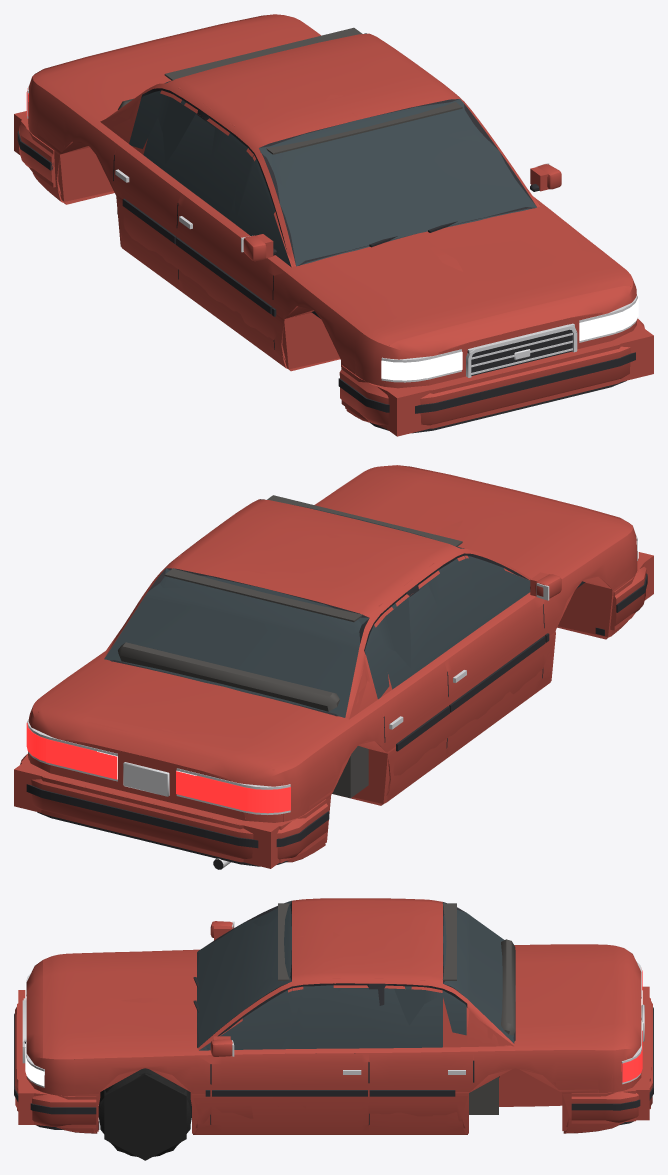
The model's file is sedan.glb.
3 views of the same model, one above another, from view 1: azimuth 30°, elevation 25°; view 2: azimuth 150°, elevation 25°; view 3: azimuth 270°, elevation 25° (orthographic). The views are drawn at different scales.
Visible parts, largest first — view 1: lod0_body, lod1_body, lod0_hood, lod2_body, lod0_bumper_F, lod1_bumper_F, lod2_light_head, lod0_light_head, lod0_bumper_R, lod1_hood; view 2: lod0_body, lod1_body, lod0_hood, lod2_body, lod0_bumper_R, lod2_light_tail, lod1_bumper_R, lod0_light_tail, lod0_bumper_F, lod1_hood; view 3: lod0_body, lod1_body, lod0_hood, lod2_body, lod0_door, lod2_wheel, lod1_door, lod0_bumper_F, lod0_bumper_R, lod0_wheel, lod1_bumper_R, lod1_bumper_F (+2 smaller).
Part boxes in pixels (x1,y1,x2,y2): lod0_body: (27, 14, 637, 422); lod1_body: (30, 24, 611, 422); lod0_hood: (287, 208, 632, 346); lod2_body: (14, 100, 653, 436); lod0_bumper_F: (338, 319, 644, 433); lod1_bumper_F: (341, 319, 643, 429); lod2_light_head: (426, 314, 615, 378); lod0_light_head: (381, 298, 638, 380); lod0_bumper_R: (17, 120, 53, 182); lod1_hood: (430, 258, 510, 311); lod0_body: (27, 465, 637, 869); lod1_body: (28, 499, 635, 862); lod0_hood: (314, 465, 632, 578); lod2_body: (14, 520, 653, 868); lod0_bumper_R: (20, 754, 329, 866); lod2_light_tail: (46, 739, 247, 811); lod1_bumper_R: (21, 757, 326, 862); lod0_light_tail: (26, 723, 290, 813); lod0_bumper_F: (595, 566, 647, 635); lod1_hood: (431, 495, 509, 533); lod0_body: (22, 898, 644, 1134); lod1_body: (23, 899, 627, 1134); lod0_hood: (43, 950, 194, 1059); lod2_body: (18, 936, 649, 1133); lod0_door: (210, 983, 368, 1133); lod2_wheel: (104, 1073, 186, 1160); lod1_door: (202, 983, 368, 1134); lod0_bumper_F: (14, 1007, 99, 1129); lod0_bumper_R: (571, 1001, 653, 1125); lod0_wheel: (98, 1068, 191, 1156); lod1_bumper_R: (571, 998, 651, 1123); lod1_bumper_F: (16, 1003, 96, 1128).
Size of the model in its own units: 2.11 by 1.35 by 4.58.
